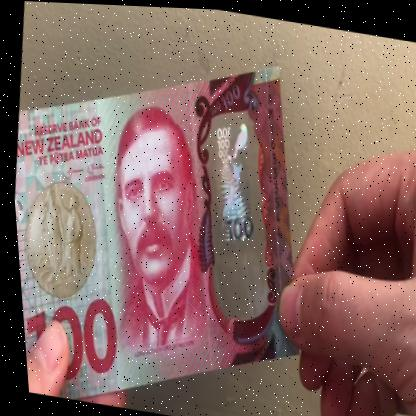100F: (189, 114, 282, 311)
